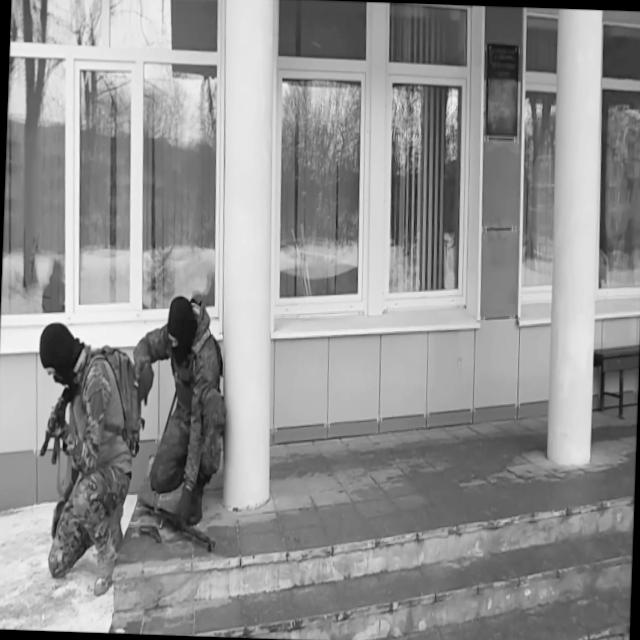gun: (134, 484, 220, 558), (38, 382, 75, 464), (138, 520, 162, 545)
person with a gun: (29, 319, 144, 597), (126, 290, 231, 554)
